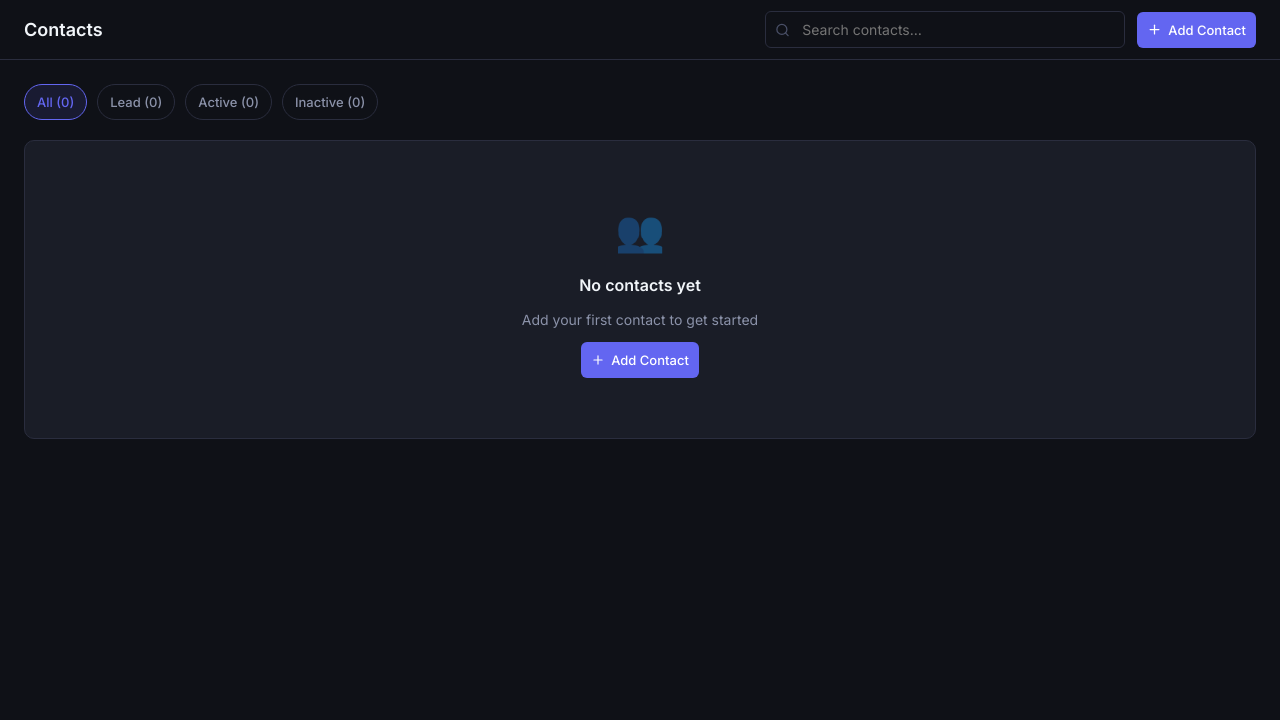
Test case: Contacts Page › opens add contact modal
Step 1. Click the button with test id "add-contact-btn" → [1197, 30], box [1137,12,1256,48]
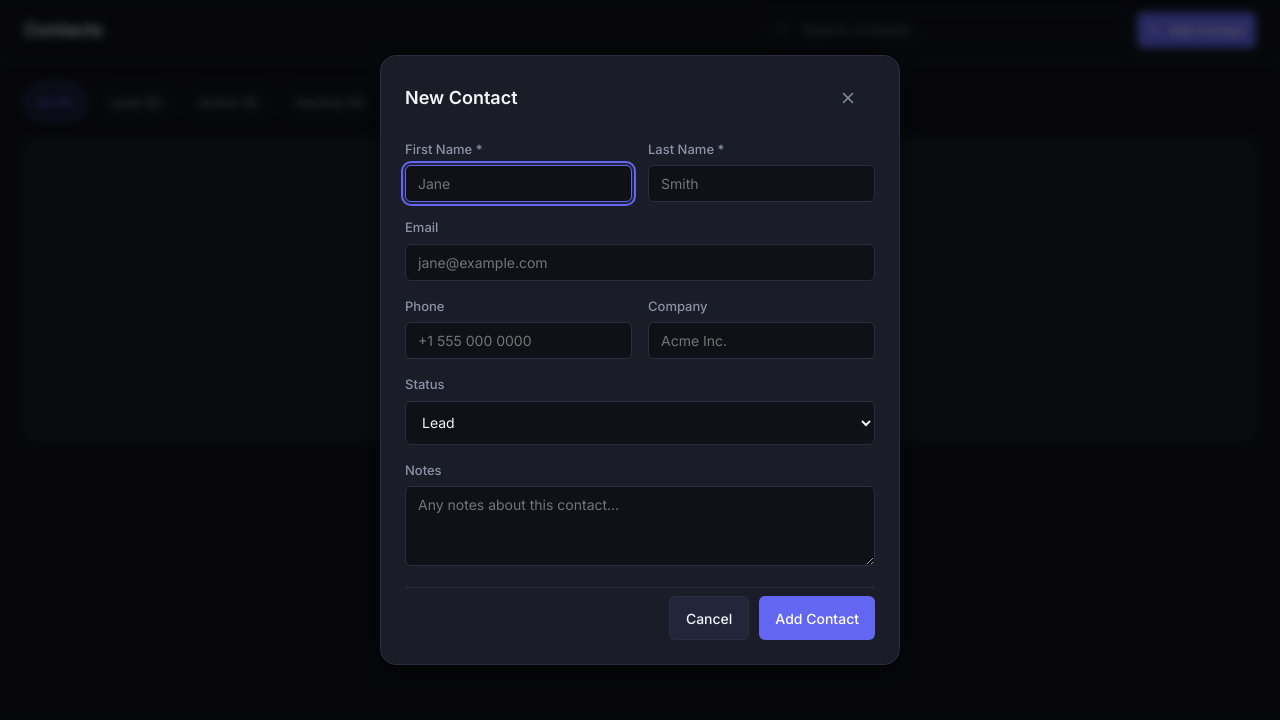
Now the field with test id "input-firstName" is shown, box [405,165,632,202]
